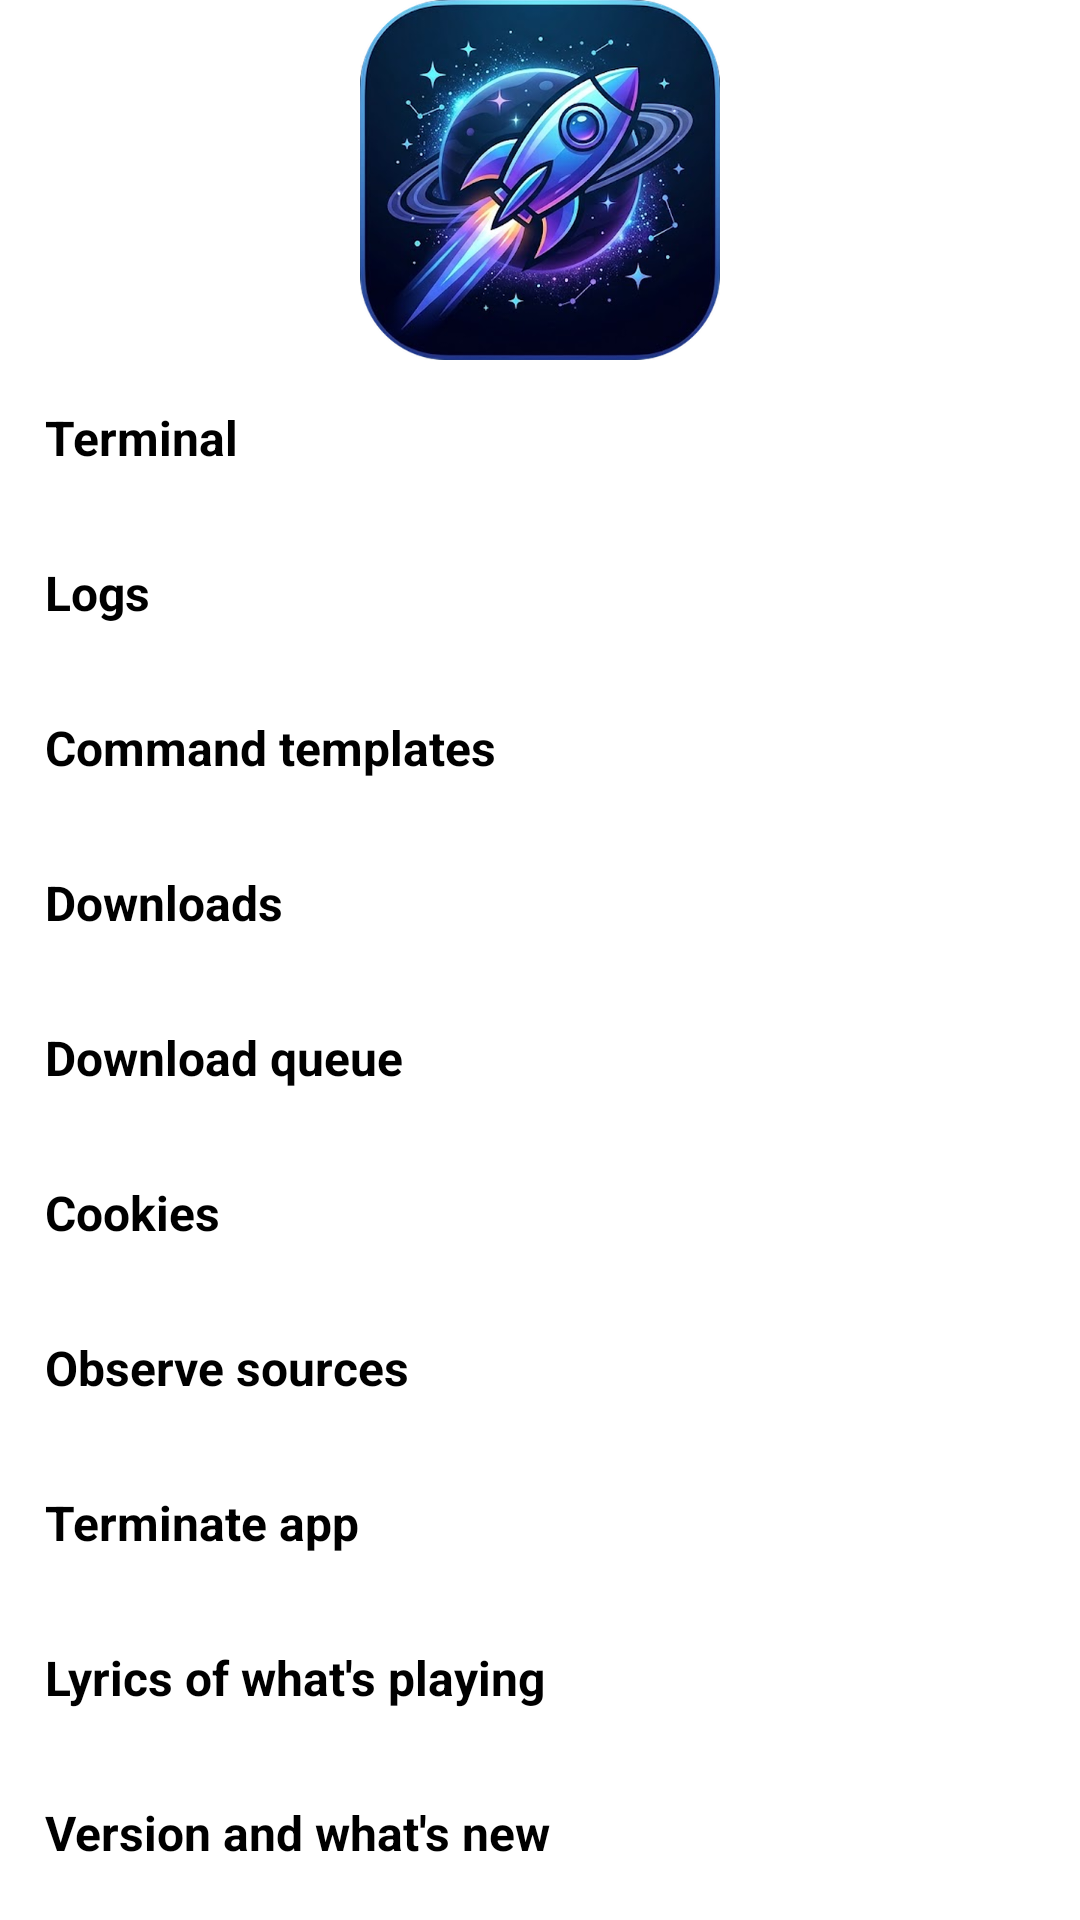

Icons on this 1080w x 1920h Android screen, each with its box as (x1, y1, x2, y2):
app: (360, 0, 720, 360)
